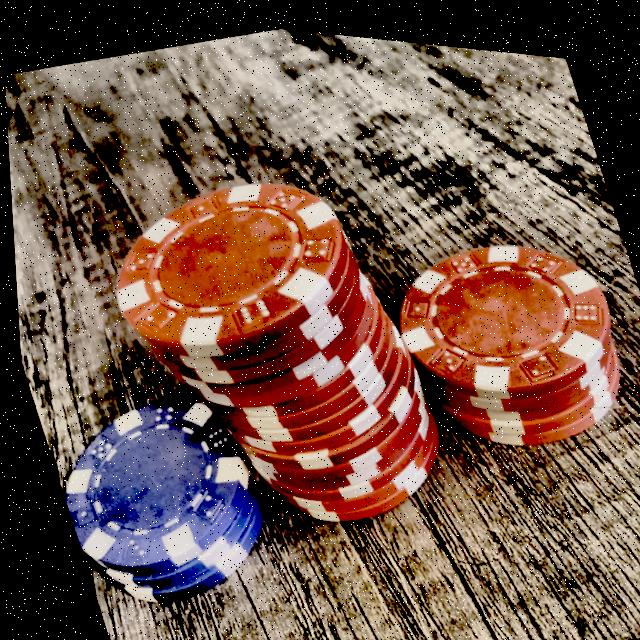Chip: (80, 132, 466, 569), (370, 195, 640, 472), (33, 364, 285, 627)
